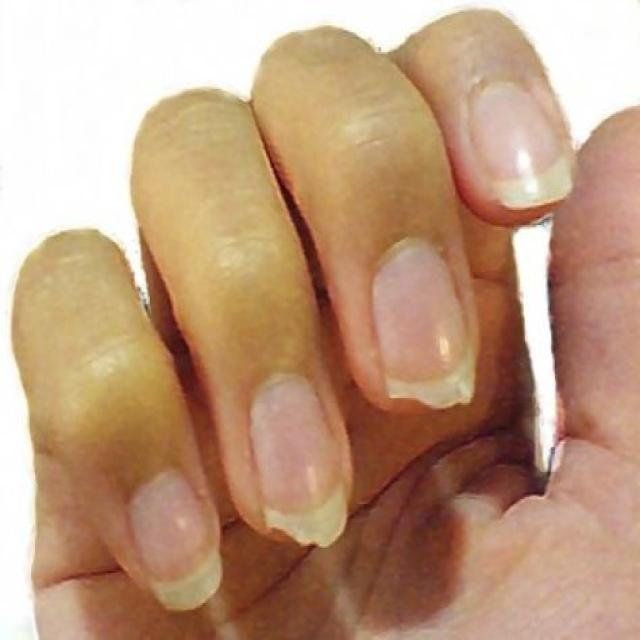Fingernail: (250, 372, 347, 548), (371, 248, 476, 409), (127, 470, 222, 612), (472, 83, 573, 209)
